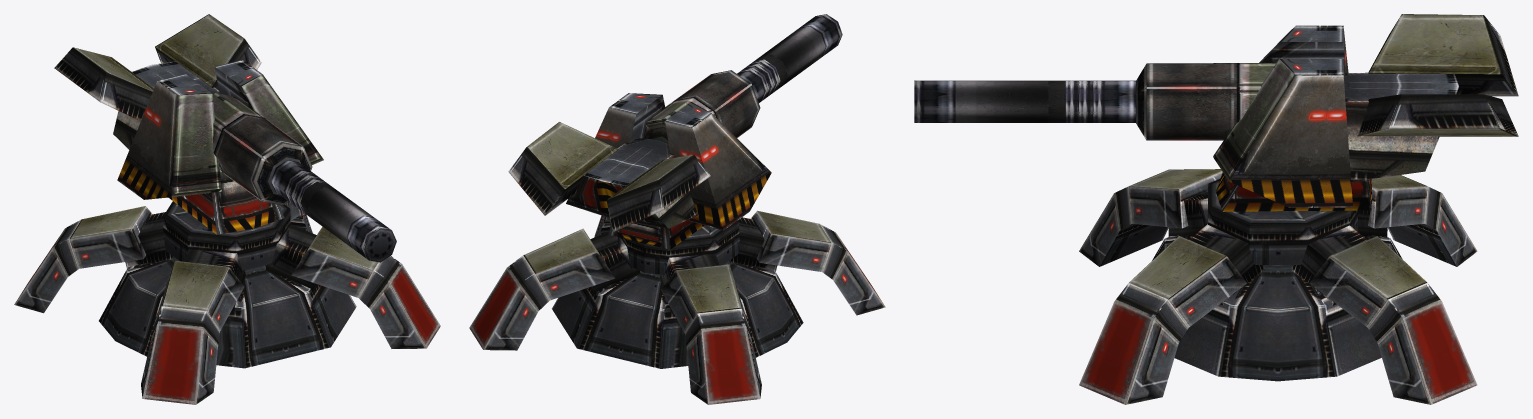
File: turret-03_Y.FBX
3 views of the same model, side by side, from view 1: azimuth 30°, elevation 25°; view 2: azimuth 150°, elevation 25°; view 3: azimuth 270°, elevation 25° (orthographic). The views are drawn at different scales.
Visible parts, largest first — view 1: turret-03; view 2: turret-03; view 3: turret-03.
Part boxes in pixels (x1=…): turret-03: x1=14, y1=14, x2=440, y2=404; turret-03: x1=469, y1=14, x2=885, y2=404; turret-03: x1=914, y1=14, x2=1518, y2=404.
Size of the model in its own units: 4.68 by 3.38 by 6.91.
